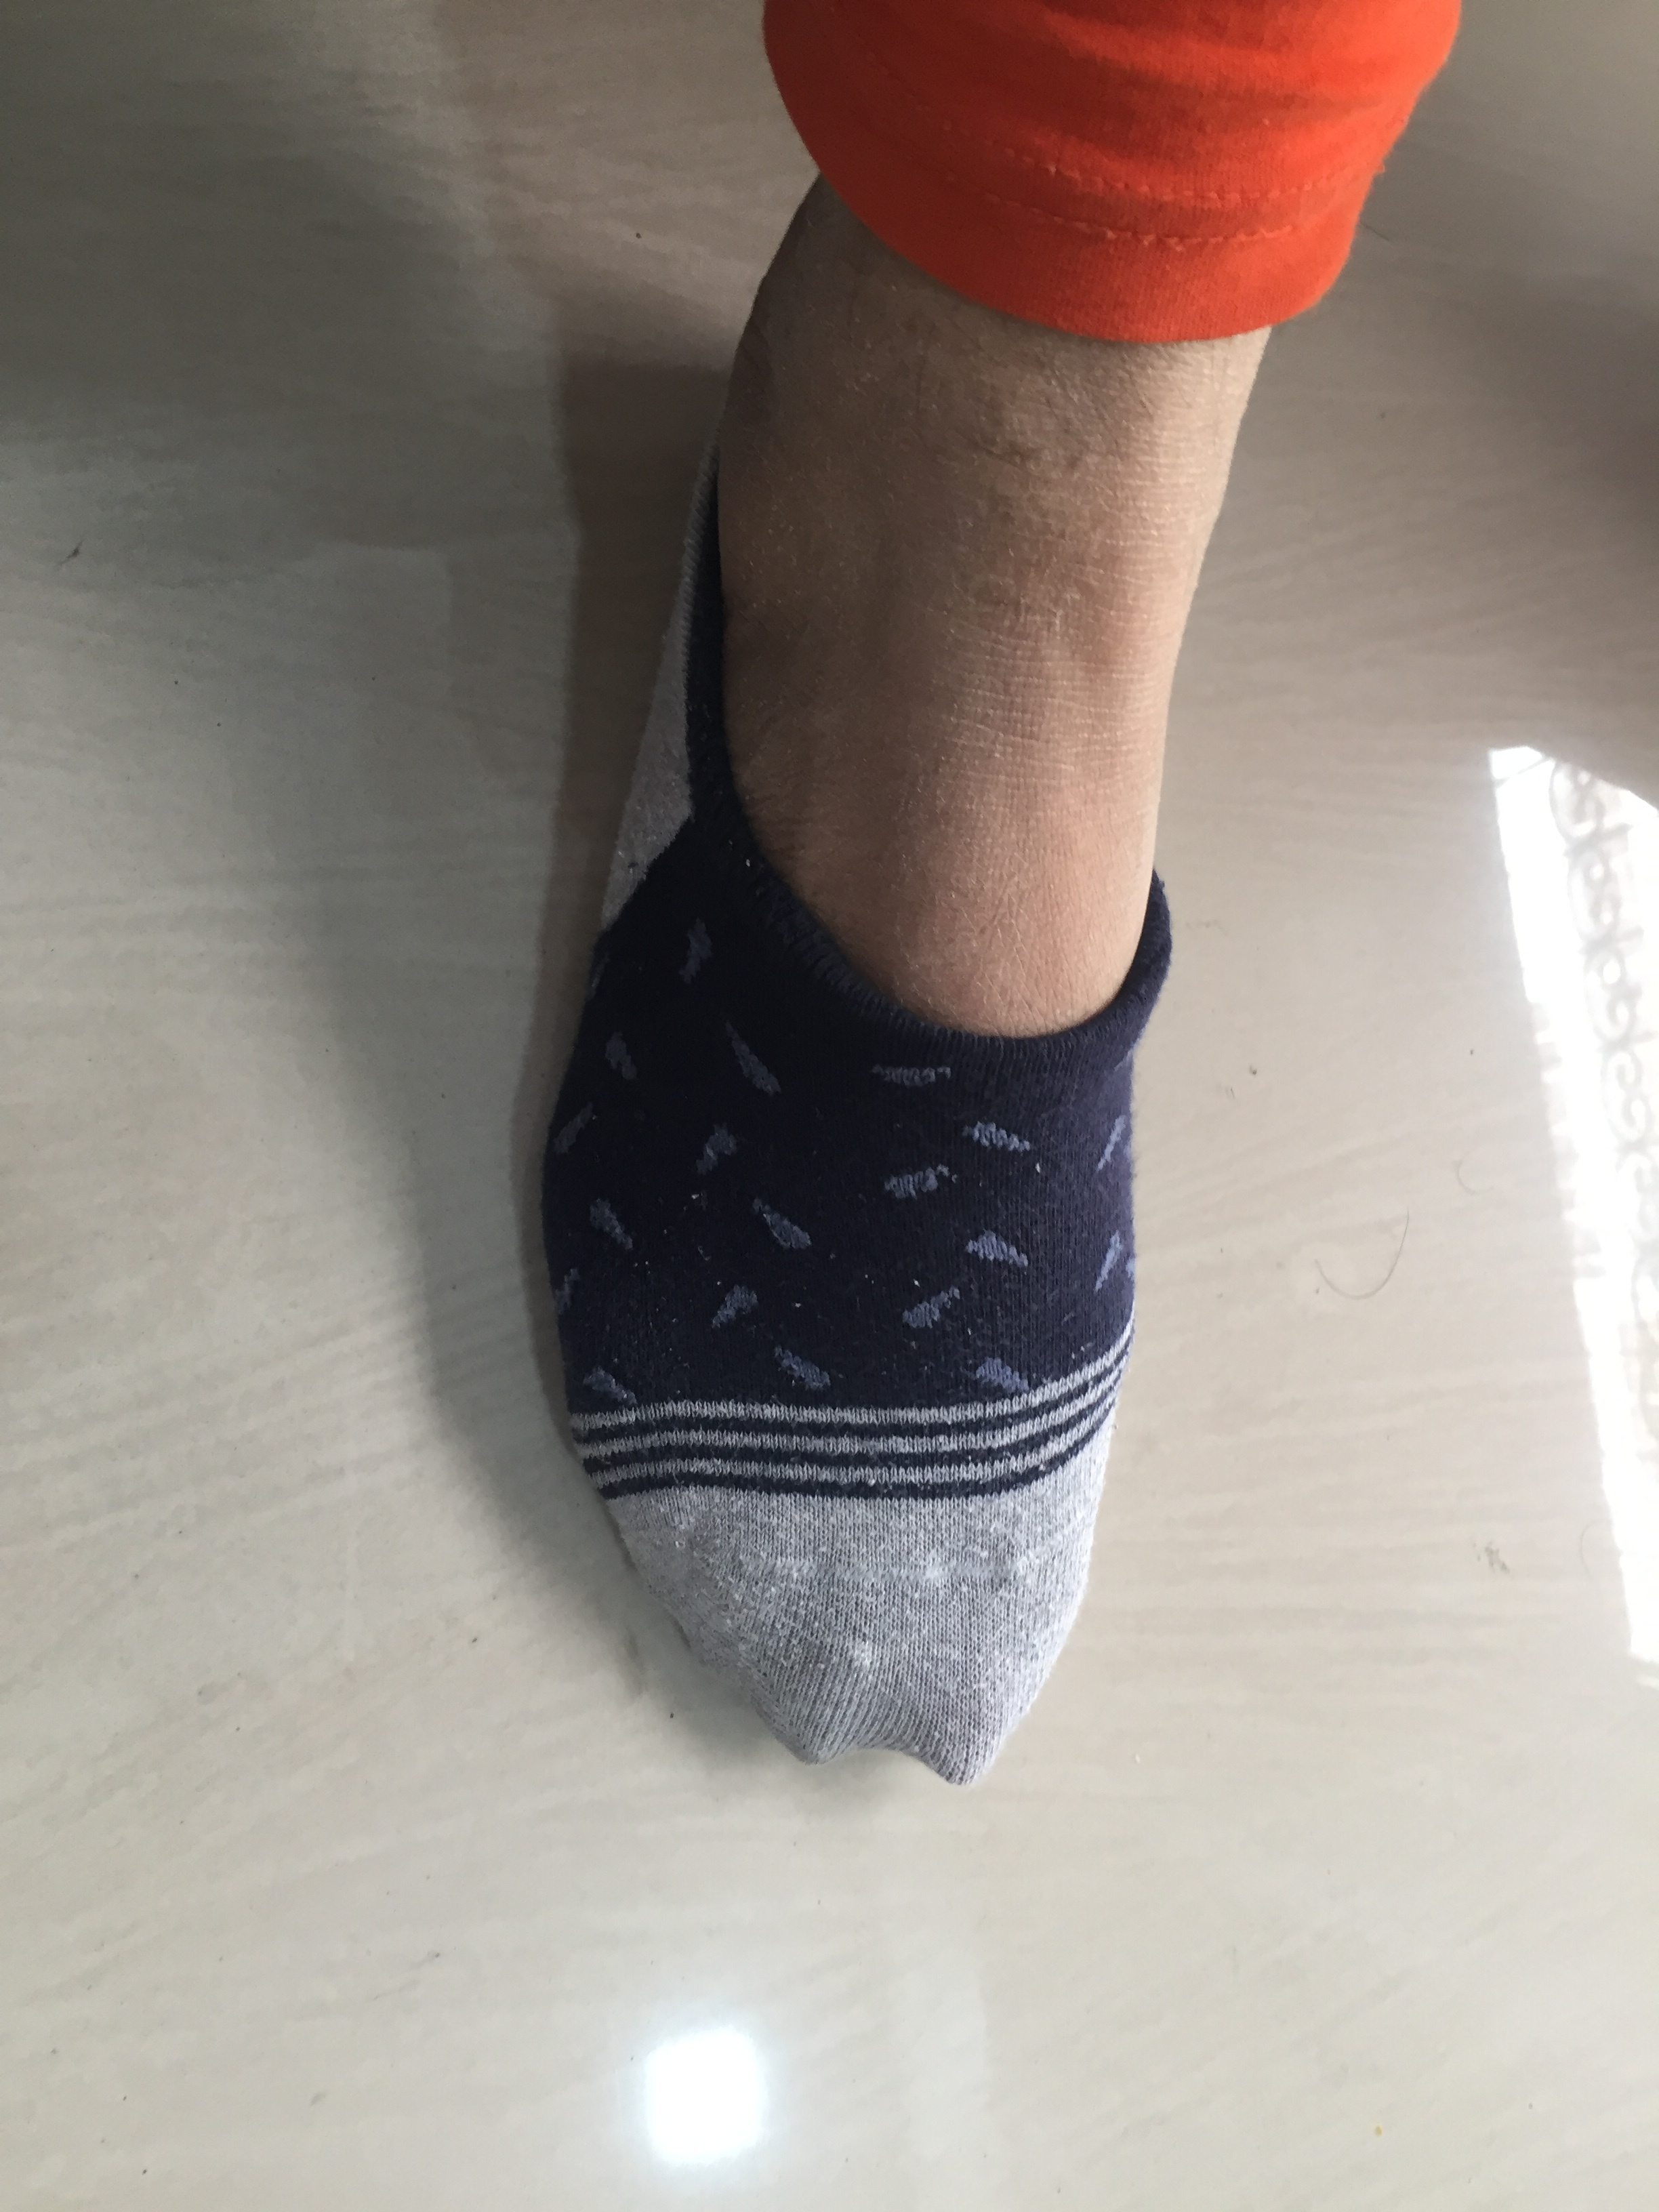feet: (542, 68, 1284, 1820)
